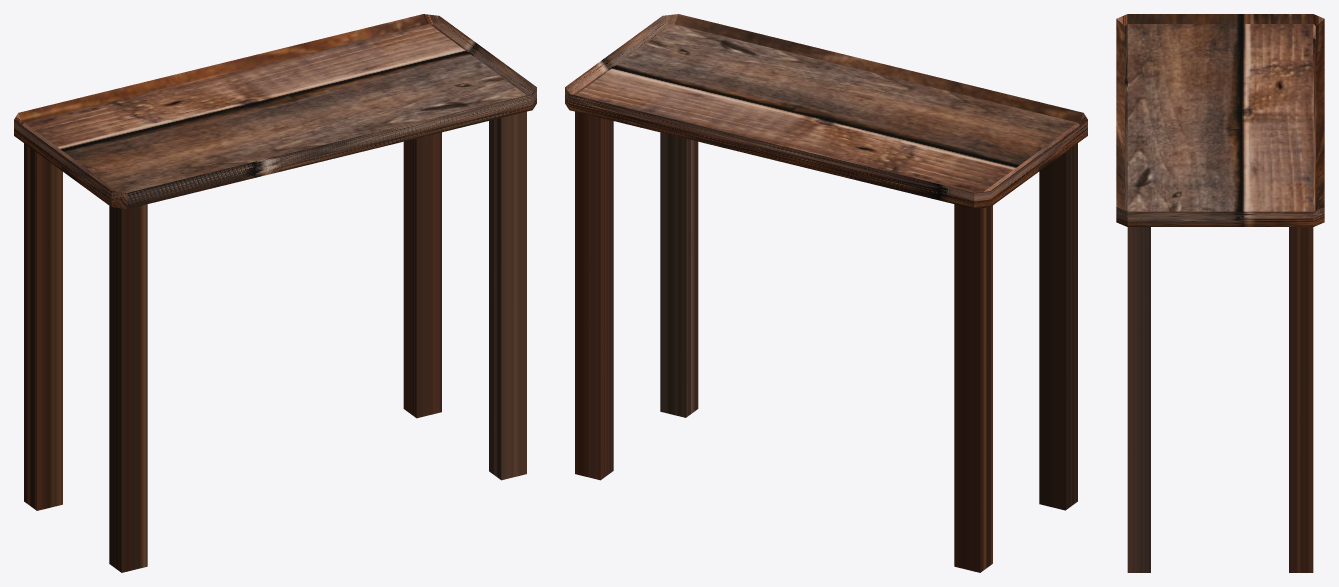
The model's file is table.glb.
3 renders of one model, left to right at view 1: azimuth 30°, elevation 25°; view 2: azimuth 150°, elevation 25°; view 3: azimuth 270°, elevation 25°, orthographic. The views are drawn at different scales.
Parts seen in each view (by area): view 1: Cube.001; view 2: Cube.001; view 3: Cube.001.
Boxes of the visible parts, x1=… form: Cube.001: x1=14, y1=14, x2=536, y2=572; Cube.001: x1=565, y1=14, x2=1087, y2=572; Cube.001: x1=1116, y1=14, x2=1324, y2=572.
Bounding box in the file's own units: 6.19 × 5.34 × 2.75.
Materials: 1 (1 with a texture image).
